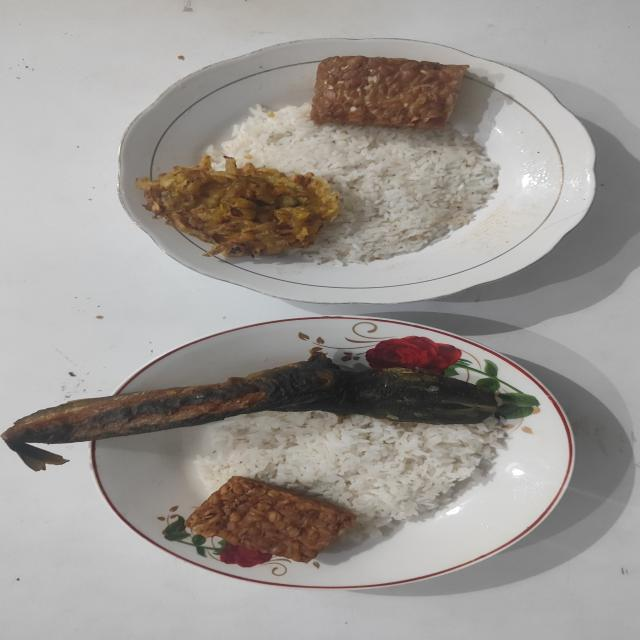nasi_putih: (206, 104, 500, 266), (196, 412, 507, 540)
tempe_goreng: (185, 476, 355, 564), (311, 56, 468, 129)
